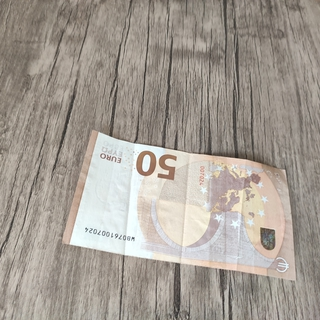50EUROBack: (60, 127, 297, 282)
